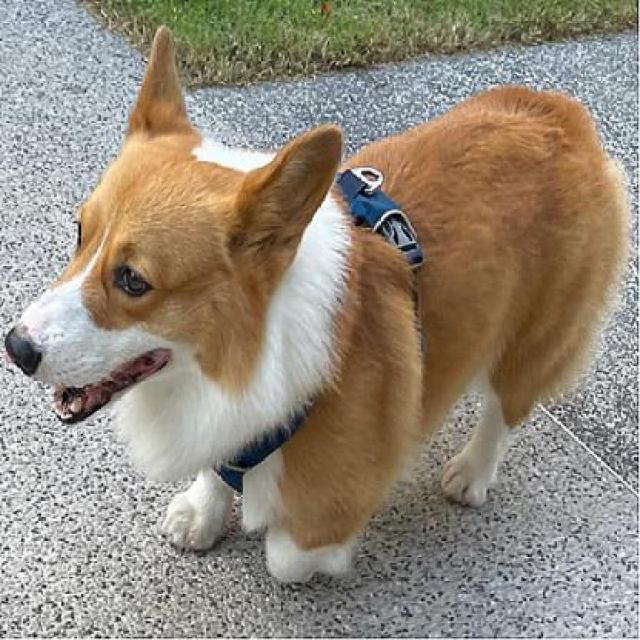Dog: (0, 26, 638, 592)
